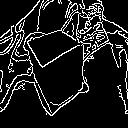cube: (17, 26, 93, 113)
